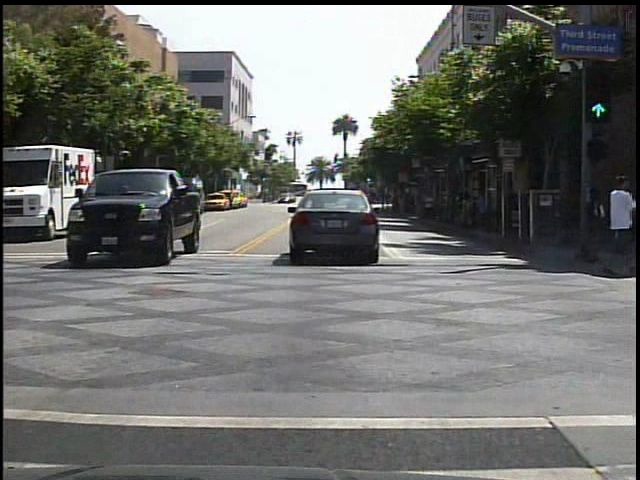person: (606, 164, 637, 271), (587, 175, 607, 266), (420, 189, 439, 224)
